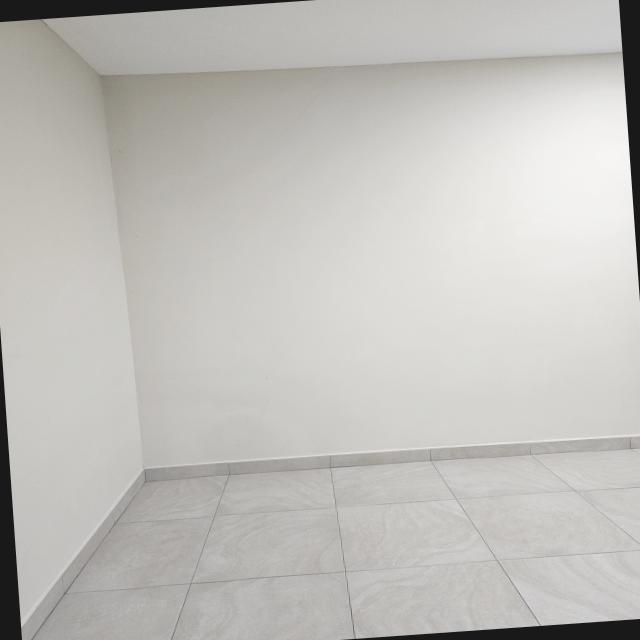footpath: (70, 437, 640, 640)
